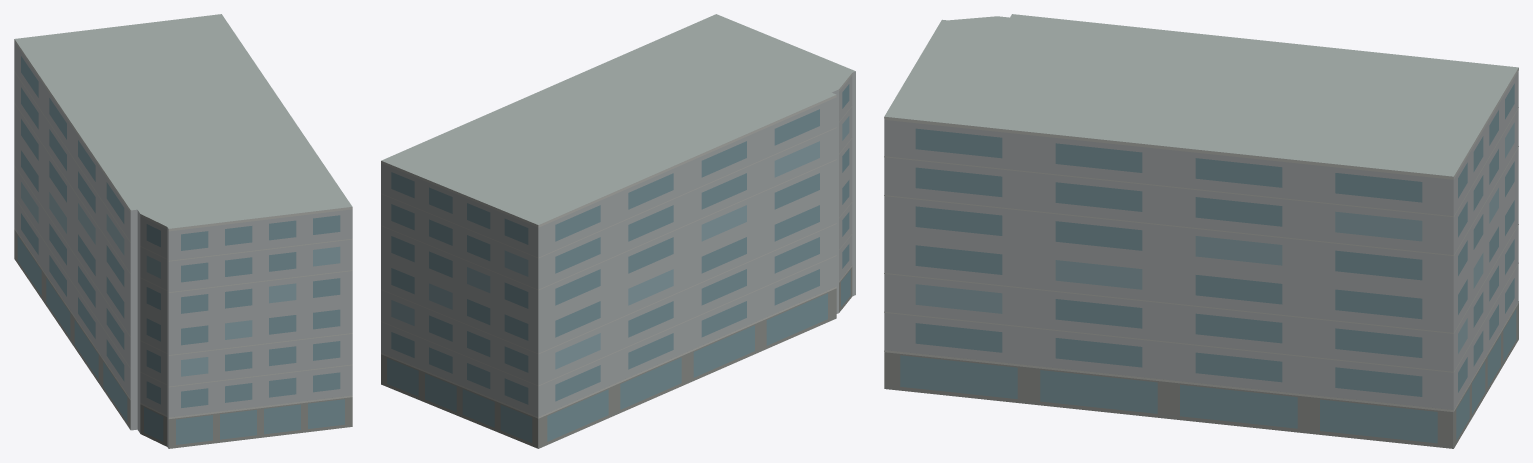
File: survey-upis-32737155.glb
3 renders of one model, left to right at view 1: azimuth 30°, elevation 25°; view 2: azimuth 150°, elevation 25°; view 3: azimuth 270°, elevation 25°, orthographic. The views are drawn at different scales.
Parts seen in each view (by area): view 1: survey-upis-32737155.tmp; view 2: survey-upis-32737155.tmp; view 3: survey-upis-32737155.tmp.
Part boxes in pixels (x1,y1,x2,y2): survey-upis-32737155.tmp: (14, 14, 352, 448); survey-upis-32737155.tmp: (381, 14, 855, 448); survey-upis-32737155.tmp: (884, 14, 1518, 448).
Size of the model in its own units: 26.81 by 20.9 by 44.18.
